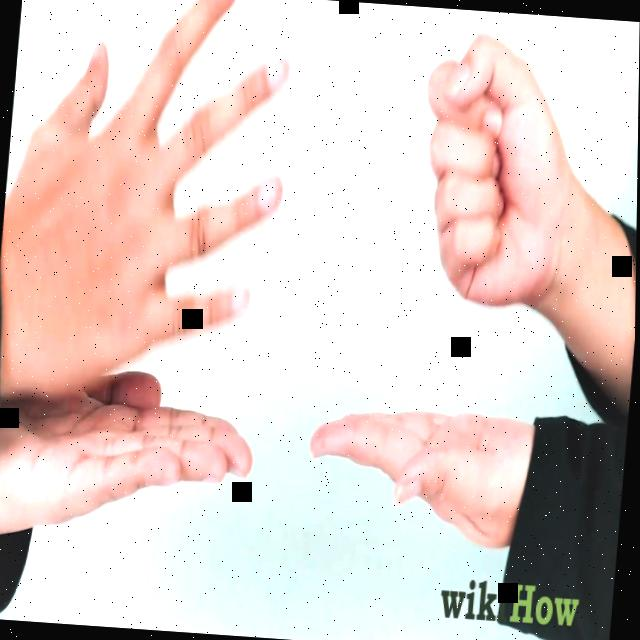Paper: (0, 0, 301, 412)
Rock: (410, 25, 591, 317)
